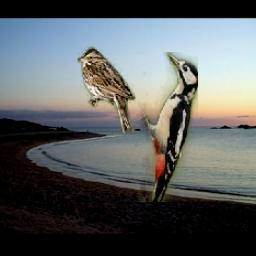Sparrow: (79, 47, 137, 134)
Woodpecker: (135, 52, 198, 202)
